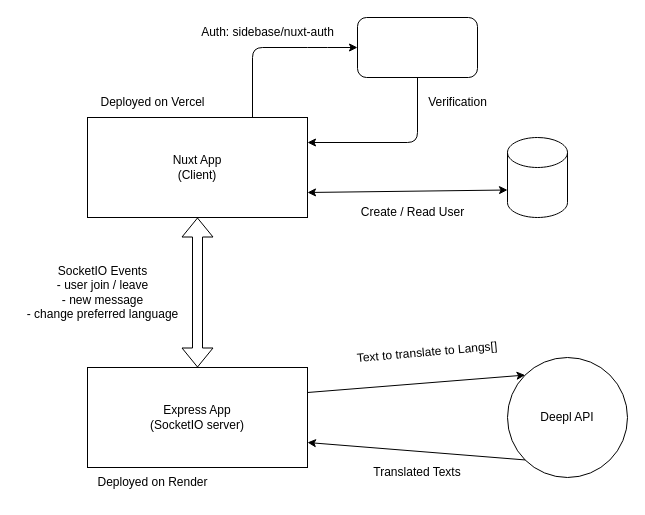
Some shapes in this 645 by 515 pixel diagram are drawn without their labels. Each missing label, with the centre of its shape:
"Email (SendGrid)" goes at pixel 417 47.
"Postgres (users)" goes at pixel 537 177.
